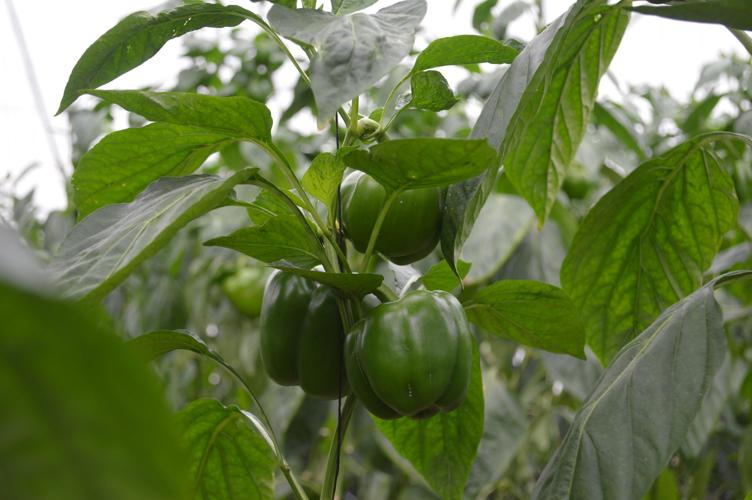BellPepper: (341, 294, 478, 419), (243, 259, 350, 402), (332, 155, 446, 259)
